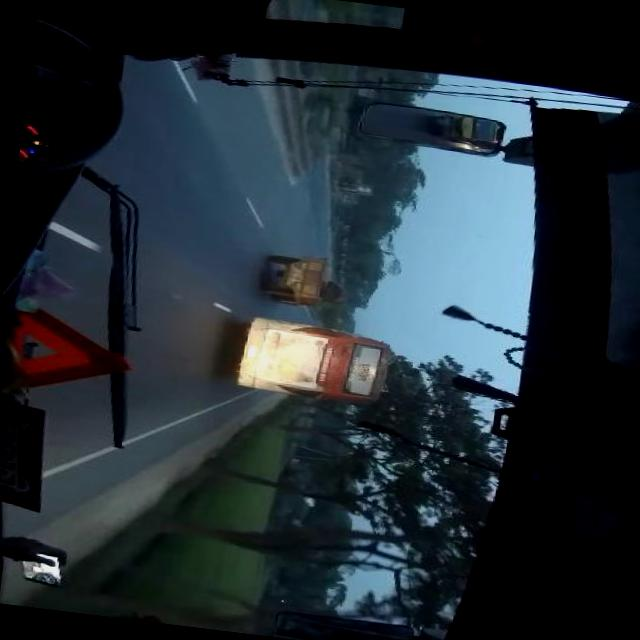bus: (230, 316, 400, 411)
